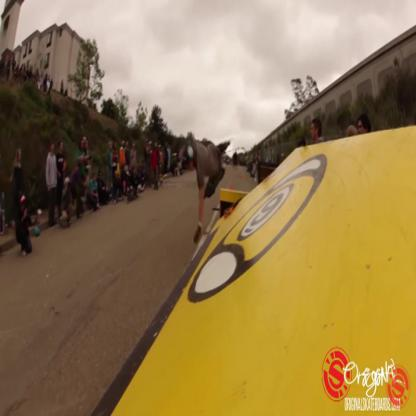Fall_Down: (177, 135, 230, 246)
